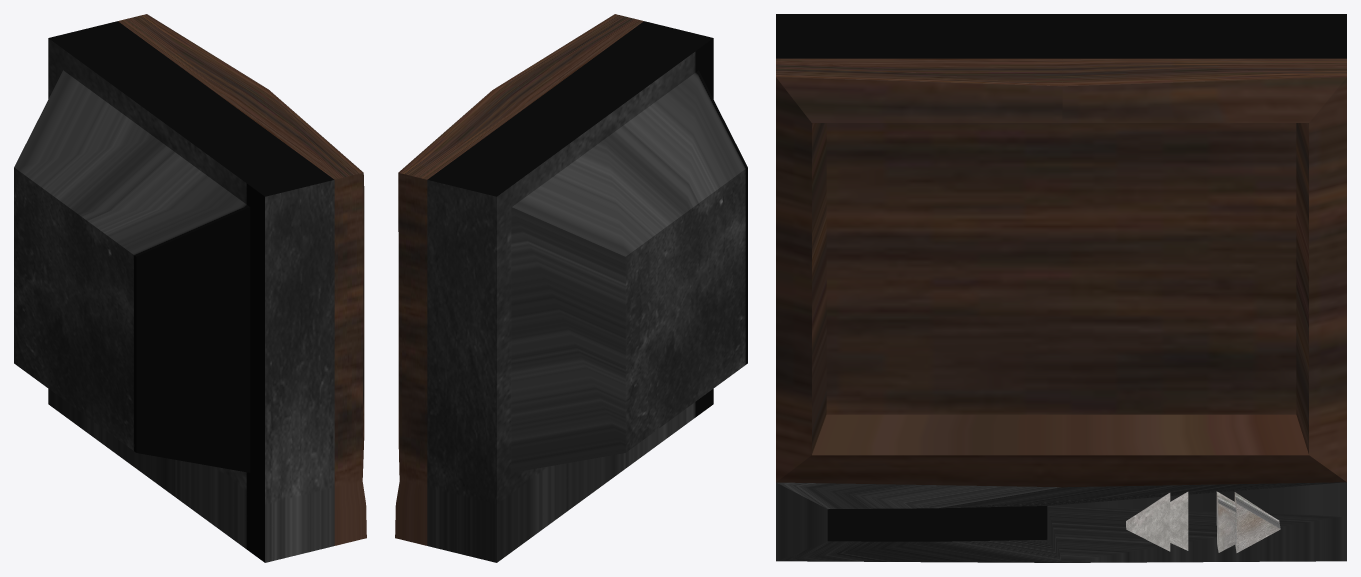
3 views of the same model, side by side, from view 1: azimuth 30°, elevation 25°; view 2: azimuth 150°, elevation 25°; view 3: azimuth 270°, elevation 25° (orthographic). The views are drawn at different scales.
Parts seen in each view (by area): view 1: Cube; view 2: Cube; view 3: Cube, Cube.001, Cube.006, Cube.003, Cube.002.
Boxes of the visible parts, bbox=[...] form: Cube: bbox=[14, 14, 366, 562]; Cube: bbox=[395, 14, 747, 562]; Cube: bbox=[776, 14, 1346, 562]; Cube.001: bbox=[1234, 492, 1280, 552]; Cube.006: bbox=[1126, 493, 1170, 551]; Cube.003: bbox=[1216, 491, 1236, 552]; Cube.002: bbox=[1170, 492, 1188, 550].
Bounding box in the file's own units: 4.93 × 8.63 × 9.26.
Materials: 2 (2 with a texture image).
